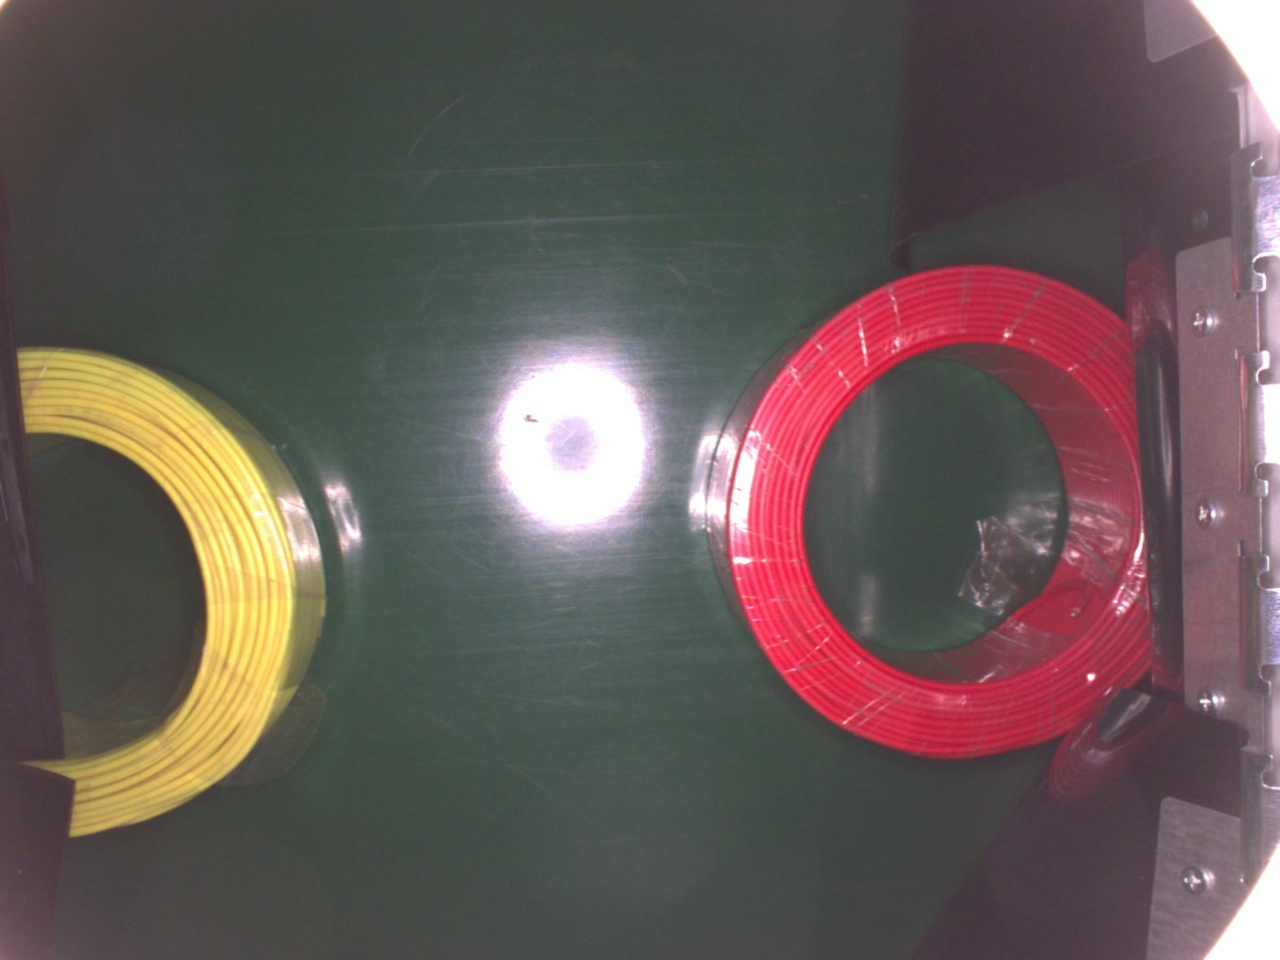red: (707, 262, 1154, 760)
yellow: (18, 341, 329, 830)
